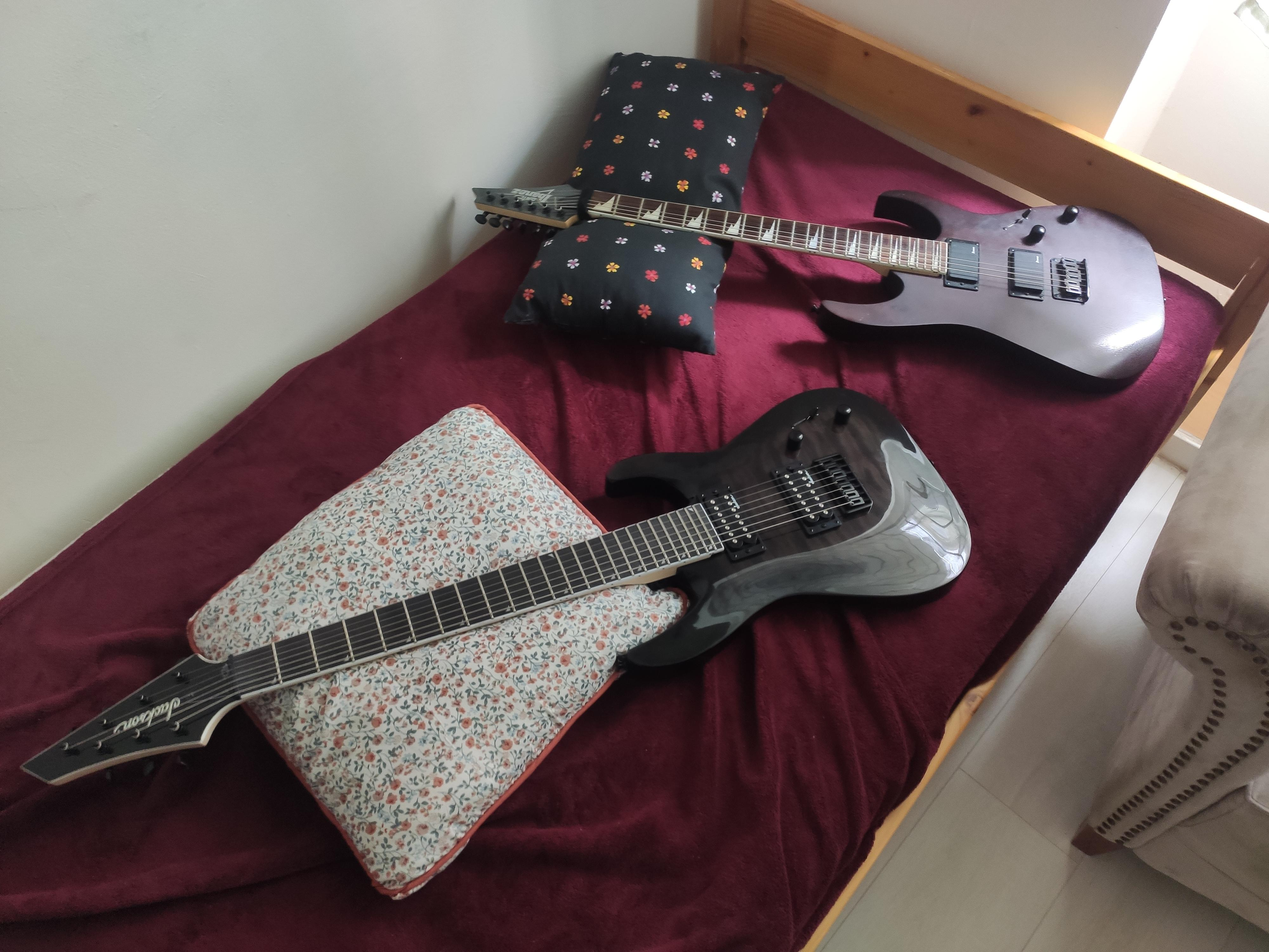acousticguitar: (22, 393, 975, 862), (467, 167, 1173, 397)
